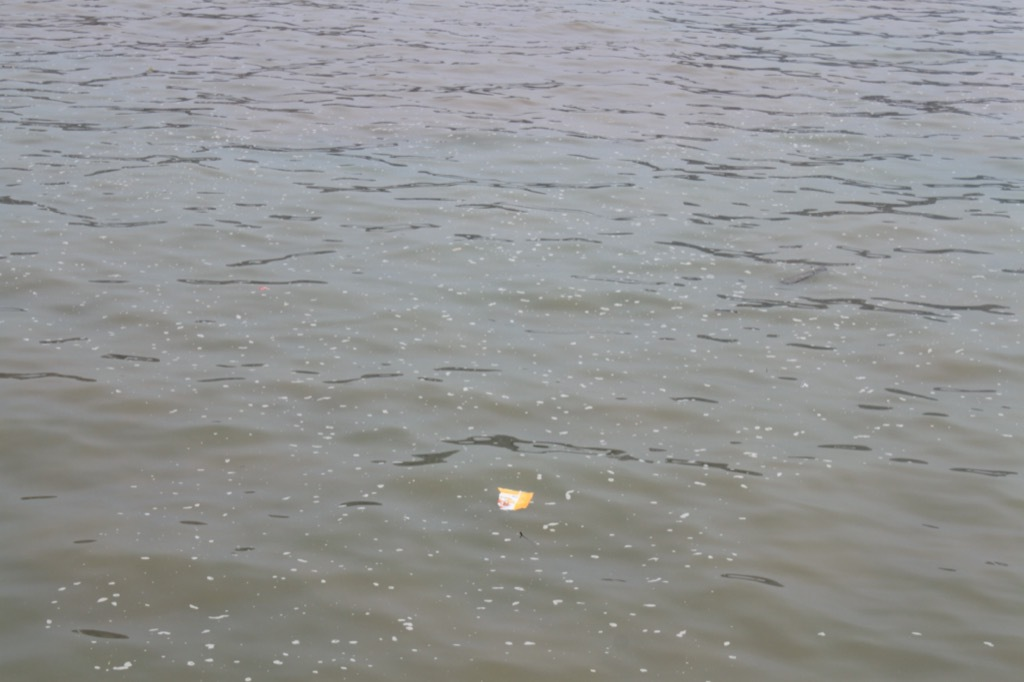plastic: (491, 484, 540, 513)
